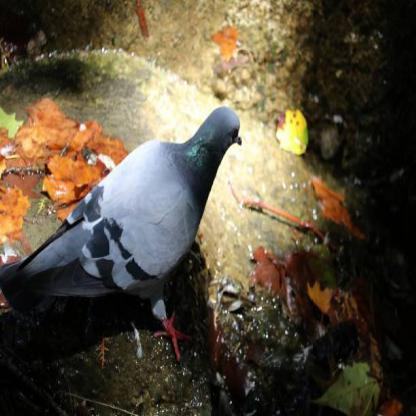Flying Rat: (19, 92, 257, 334)
